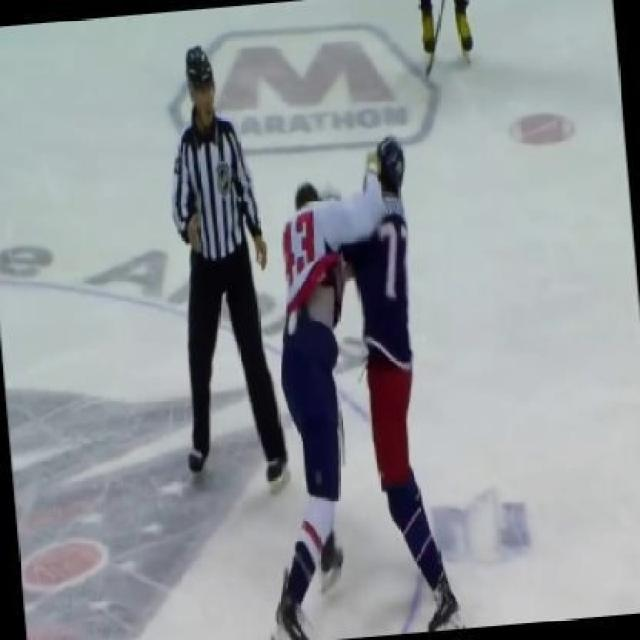fight: (268, 134, 468, 640)
non-fight: (168, 41, 292, 494)
